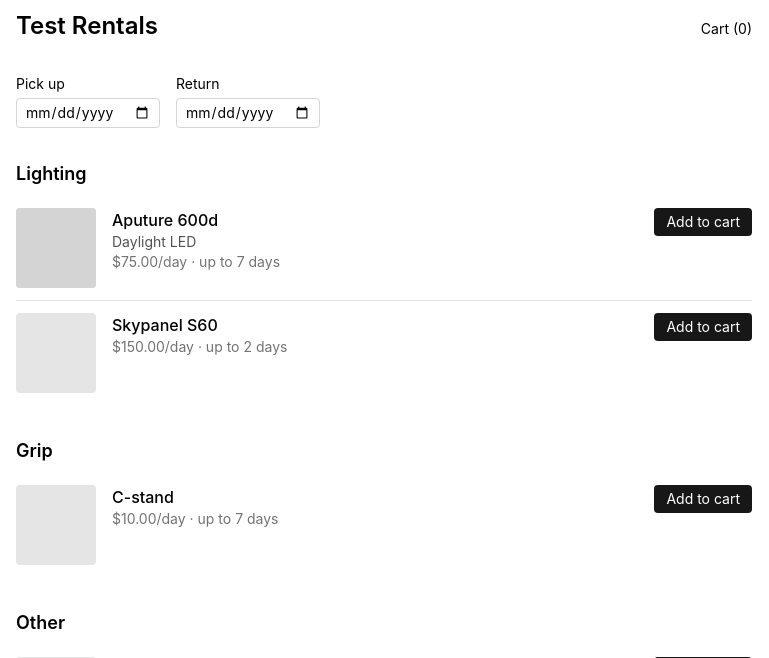
catalog › picking a start date fills in the return date, remembers both, and checks availability
This screenshot has width=769, height=658.
Expected: the text "Aputure 600d" is shown, [112,210,218,230]
Step 1. Type "2026-11-02" into the date field labelled "Pick up" → (88, 113), box [16,98,160,128]
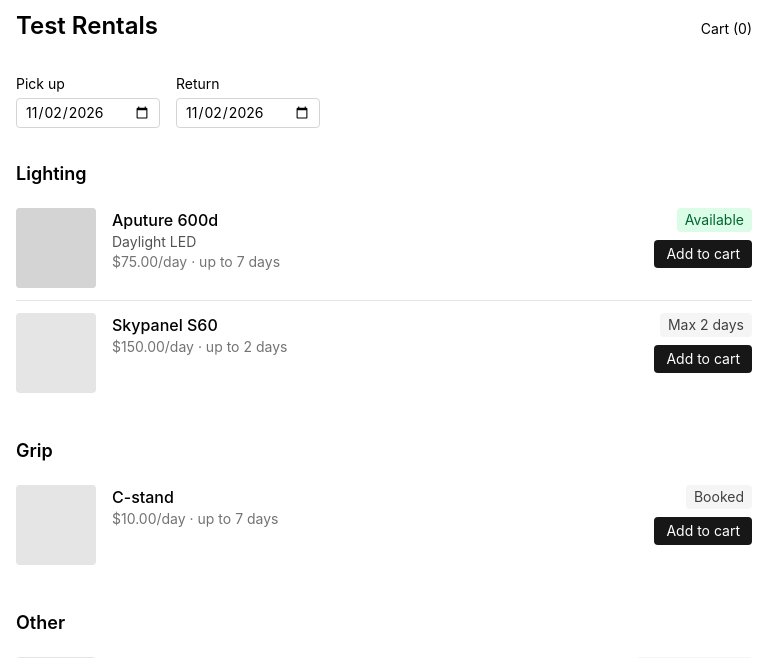
Expected: the date field labelled "Return" holds "2026-11-02", [176,98,320,128]
Expected: the text "Available" is shown, [677,208,752,232]
